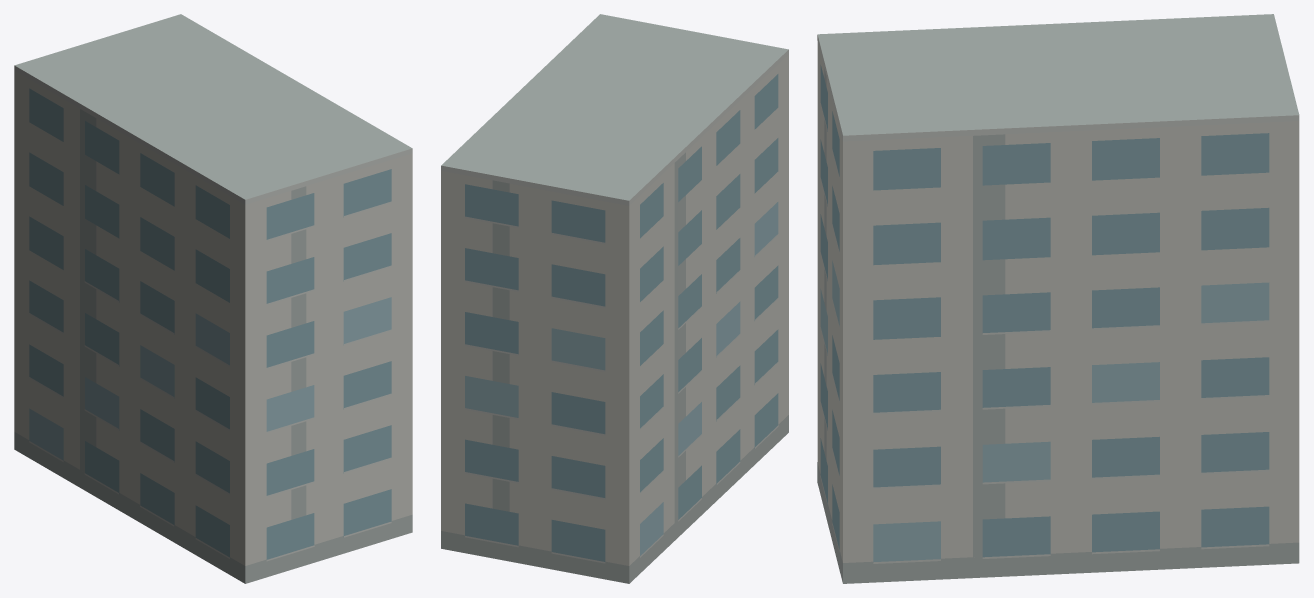
File: survey-upis-32563914.glb
The picture shows the model from 3 angles, left to right: view 1: azimuth 30°, elevation 25°; view 2: azimuth 150°, elevation 25°; view 3: azimuth 270°, elevation 25°; orthographic projection. The views are drawn at different scales.
Parts seen in each view (by area): view 1: survey-upis-32563914.tmp; view 2: survey-upis-32563914.tmp; view 3: survey-upis-32563914.tmp.
Boxes of the visible parts, x1,y1,x2,y2 form: survey-upis-32563914.tmp: (14, 14, 412, 583); survey-upis-32563914.tmp: (441, 14, 788, 583); survey-upis-32563914.tmp: (817, 14, 1299, 583).
Bounding box in the file's own units: 10.67 × 18.3 × 17.84.
